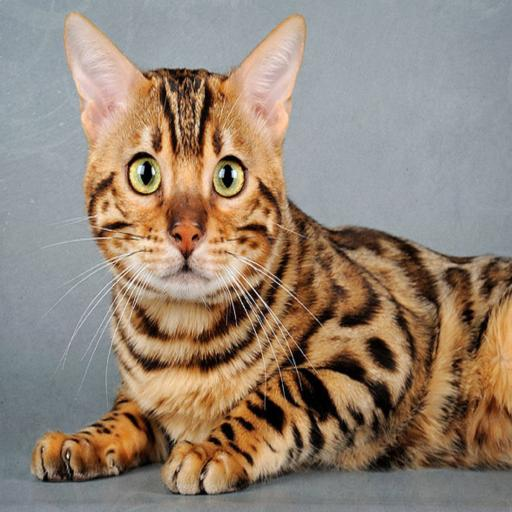cats: (31, 13, 512, 494)
